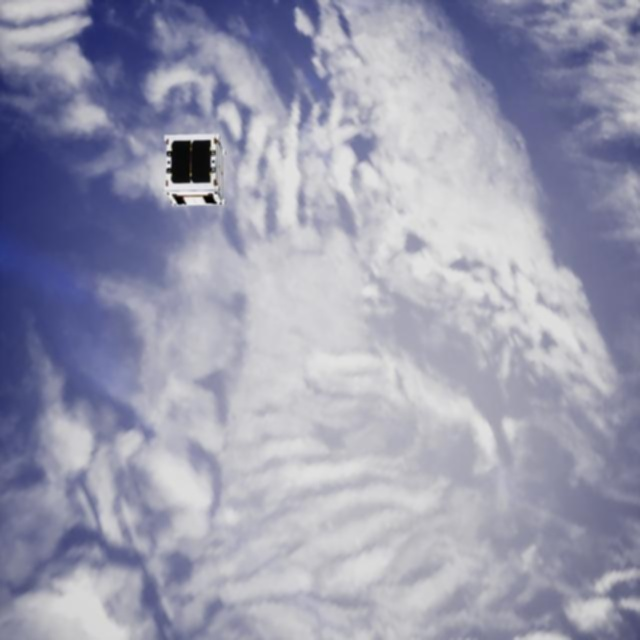satellite: (155, 132, 224, 215)
